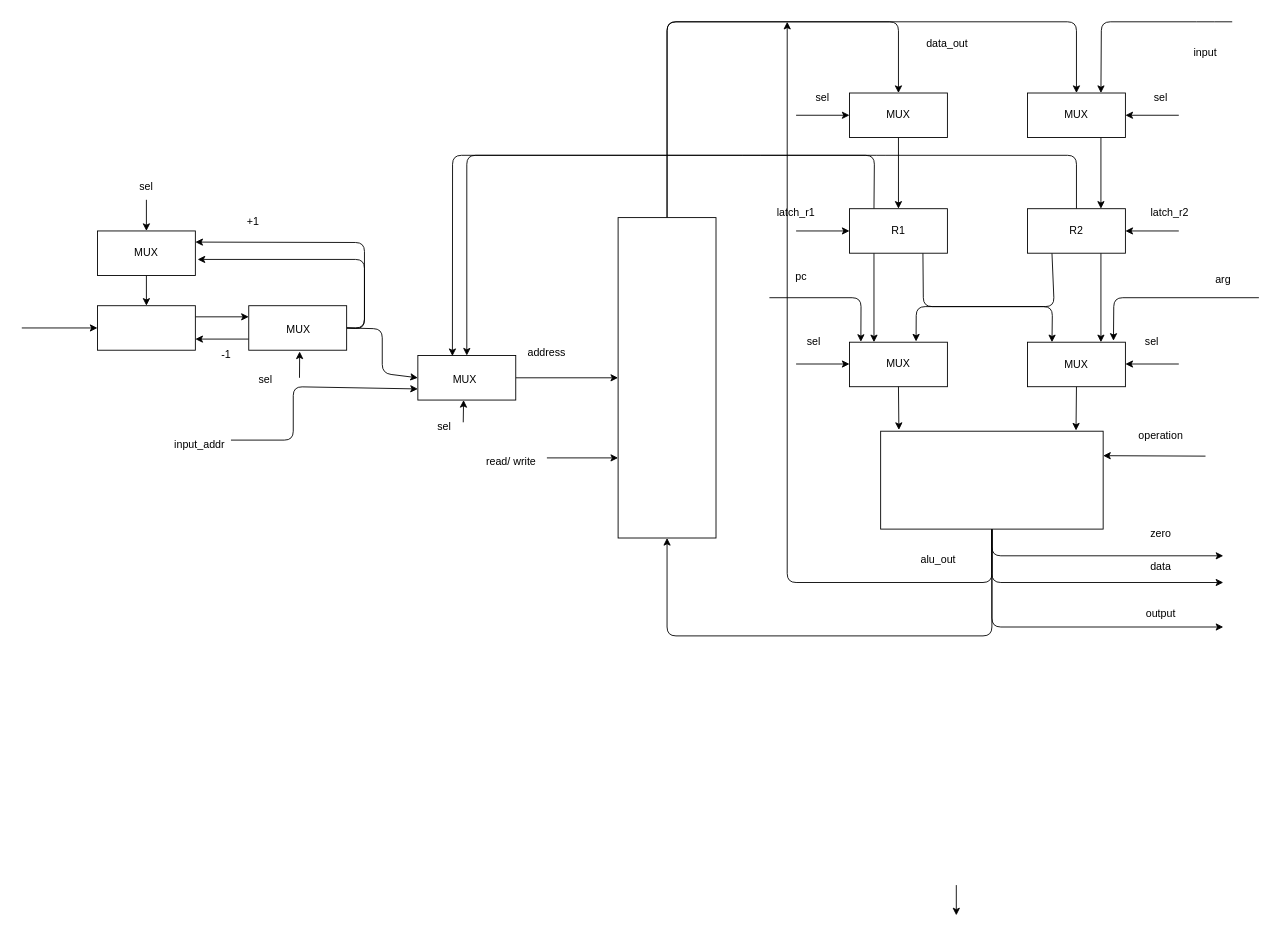
This 1282x938 diagram has some shape labels left out. Each missing label, with the centre of its shape:
ALU: (991,479)
data memory: (666,377)
SP: (146,327)
